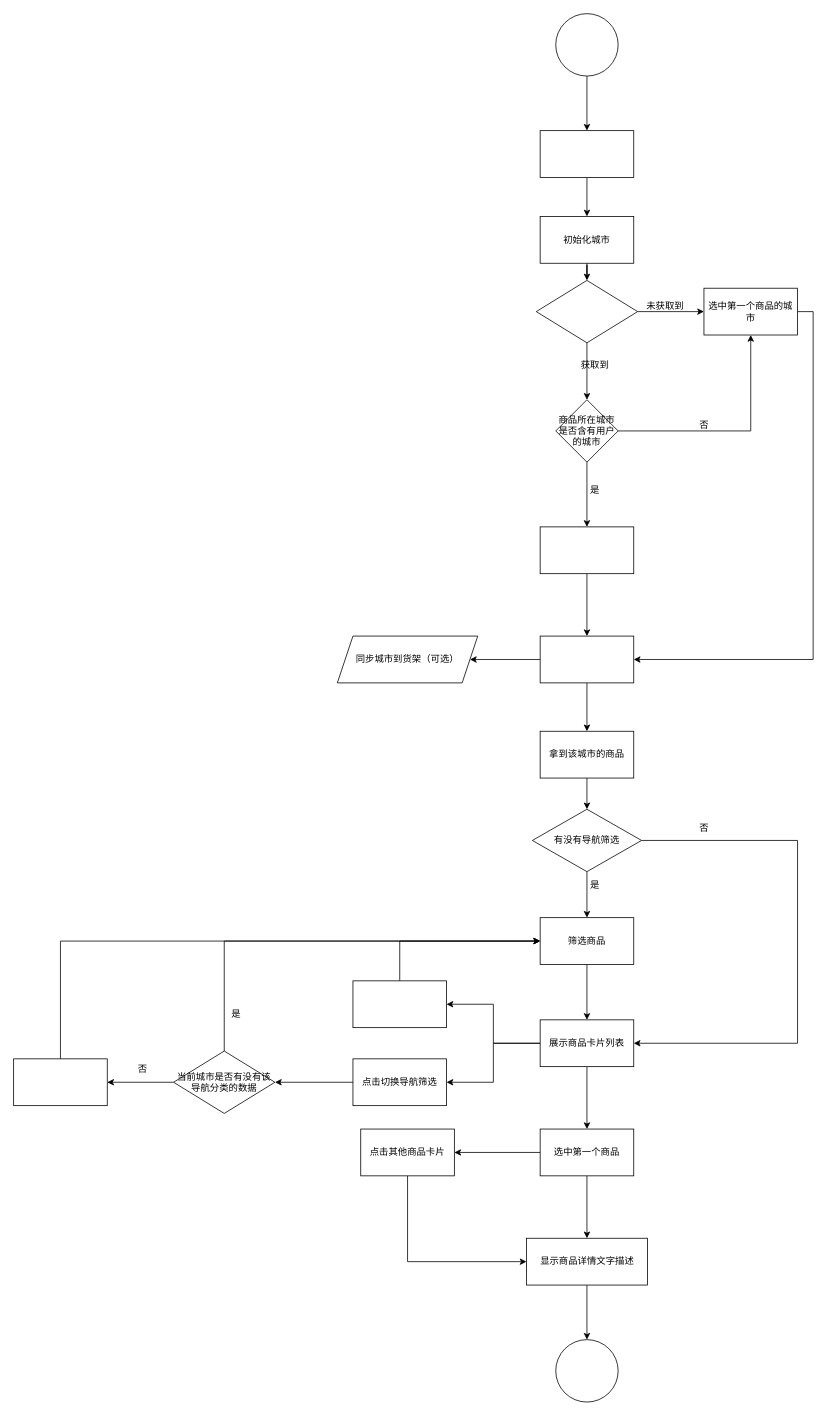
The diagram is 833 pixels wide and 1416 high, and some of its shapes have lost their labels. The shapes that lost their labels are listed below. From the top down, each one's box as (x1, y1, x2, y2) in pixels, then its label:
(539, 130, 634, 177): 页面加载
(535, 280, 638, 343): 获取到用户所在城市
(539, 526, 634, 574): 选中所在城市
(539, 635, 634, 683): 确定城市
(352, 980, 447, 1028): 点击切换城市
(13, 1058, 107, 1106): 选择第一个有此导航筛选的城市
